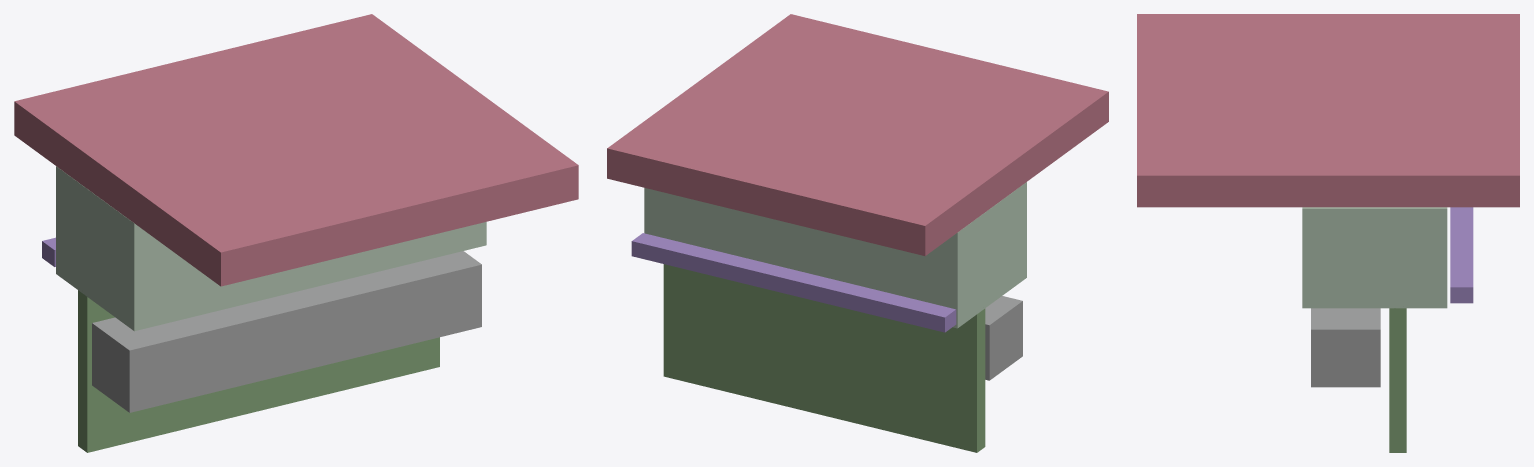
3 views of the same model, side by side, from view 1: azimuth 30°, elevation 25°; view 2: azimuth 150°, elevation 25°; view 3: azimuth 270°, elevation 25° (orthographic). The views are drawn at different scales.
Visible parts, largest first — view 1: world; view 2: world; view 3: world.
Part boxes in pixels (x1,y1,x2,y2): world: (14, 14, 578, 452); world: (607, 14, 1108, 452); world: (1137, 14, 1519, 452).
Size of the model in its own units: 6.6 by 5.3 by 6.6.
